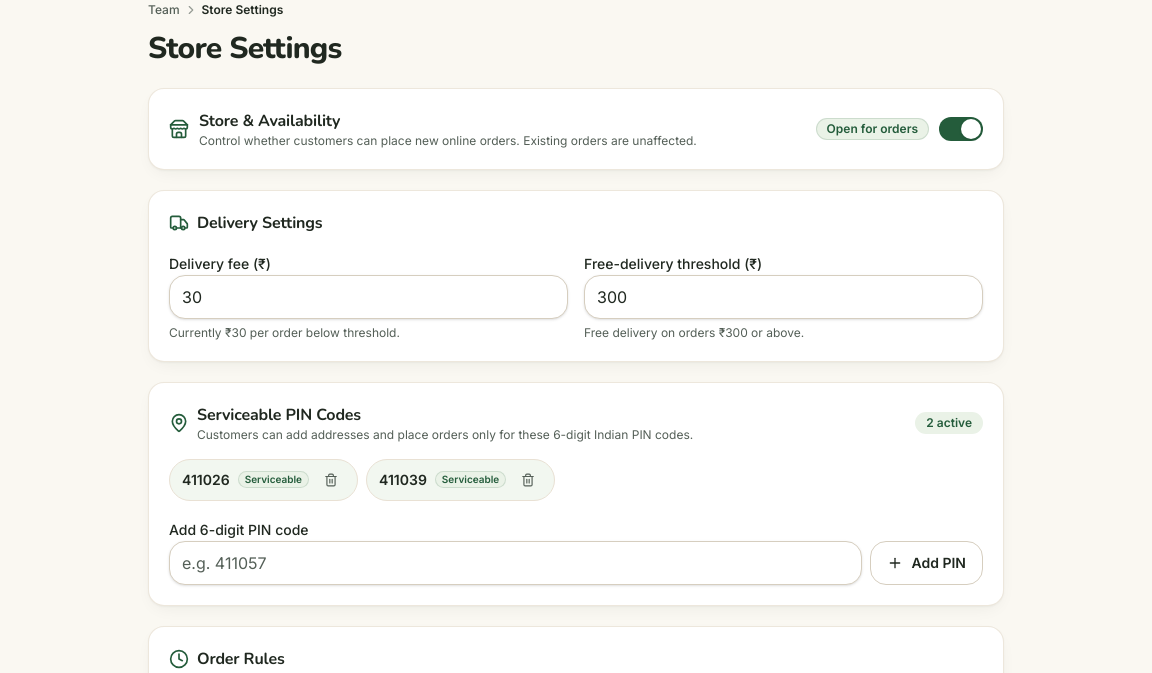
Test case: StoreSettingsPage › validates negative delivery fee and saves valid settings
The width and height of the screenshot is (1152, 673).
Expected: the text "411026" is shown, [182, 470, 230, 490]
Replace the text in the number field labelled "Delivery fee (₹)" with "-10" at coordinates (368, 296), box [169, 274, 568, 318]
(page scrolled)
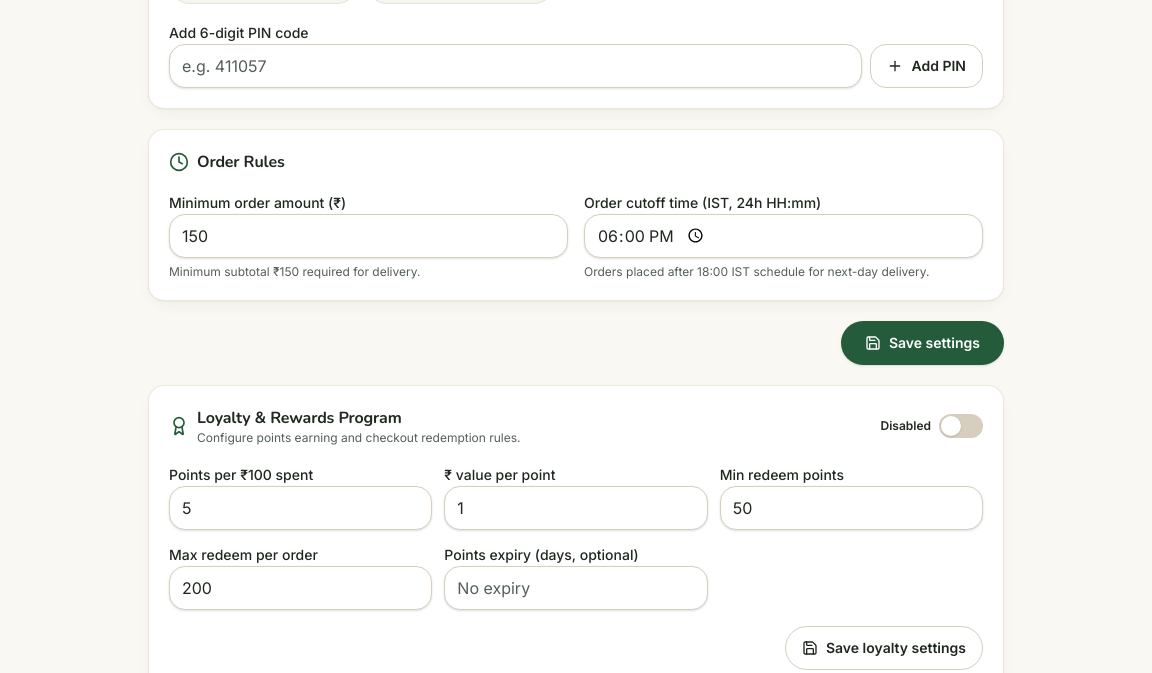
Click the button "Save settings" at coordinates (922, 342), box [841, 320, 1004, 364]
(page scrolled)
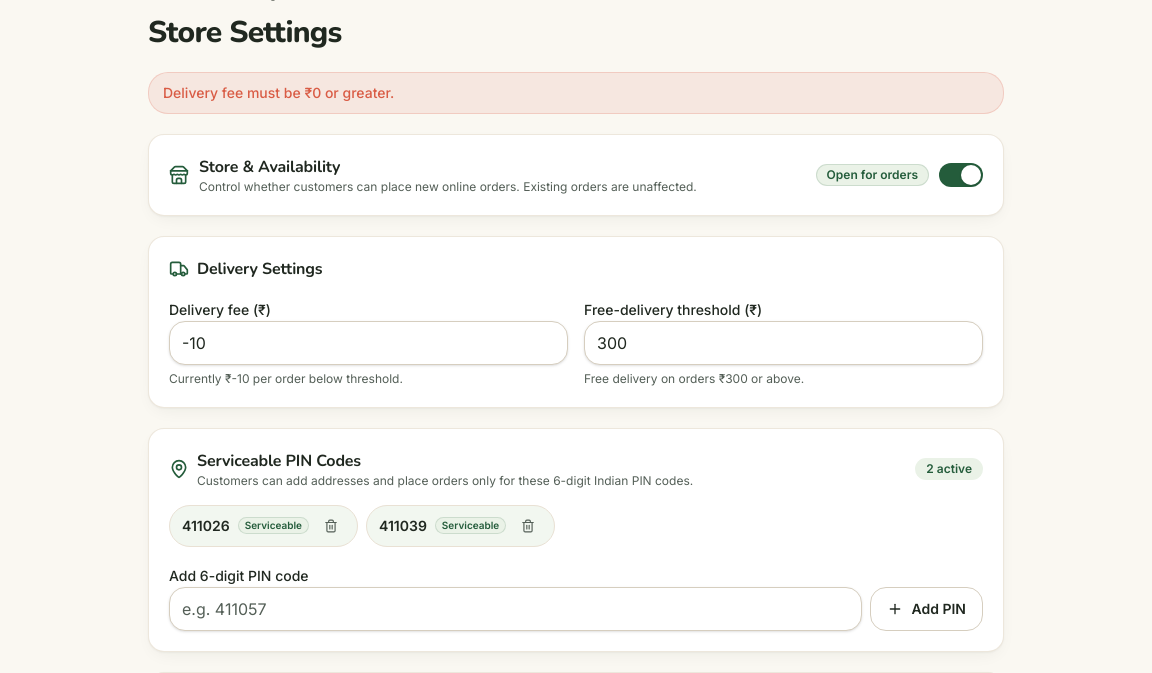
Expected: the message shows "Delivery fee must be", [163, 84, 394, 100]
Replace the text in the number field labelled "Delivery fee (₹)" with "25" at coordinates (368, 342), box [169, 320, 568, 364]
(page scrolled)
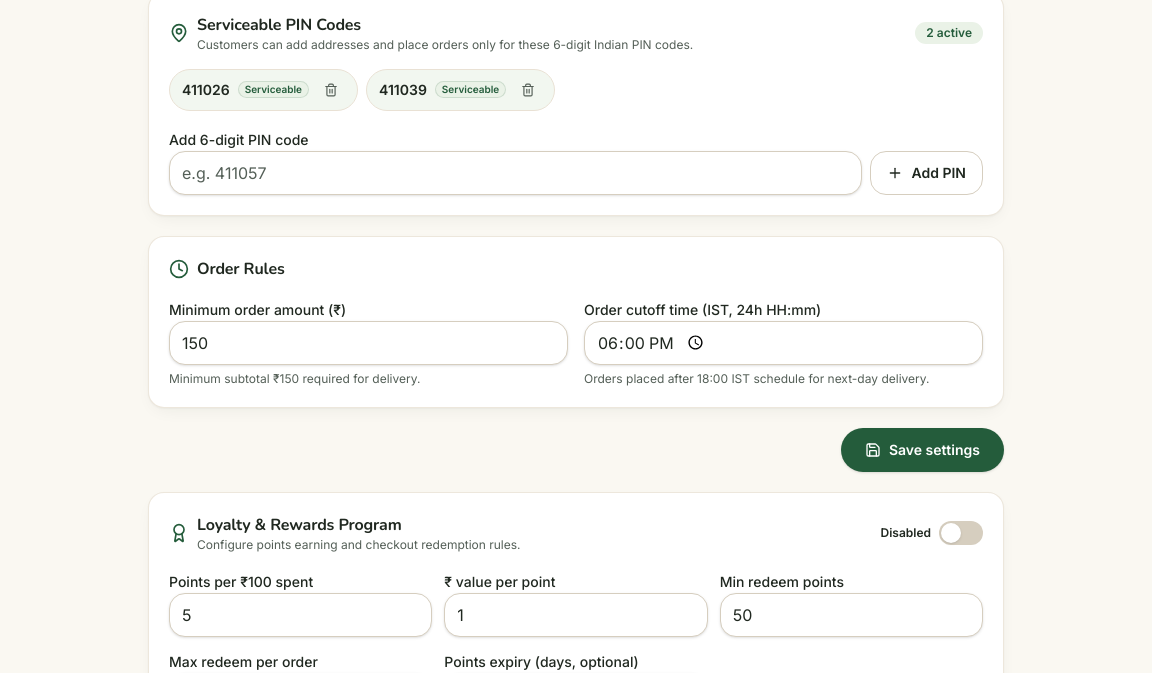
Replace the text in the number field labelled "Minimum order amount (₹)" with "200" at coordinates (368, 342), box [169, 320, 568, 364]
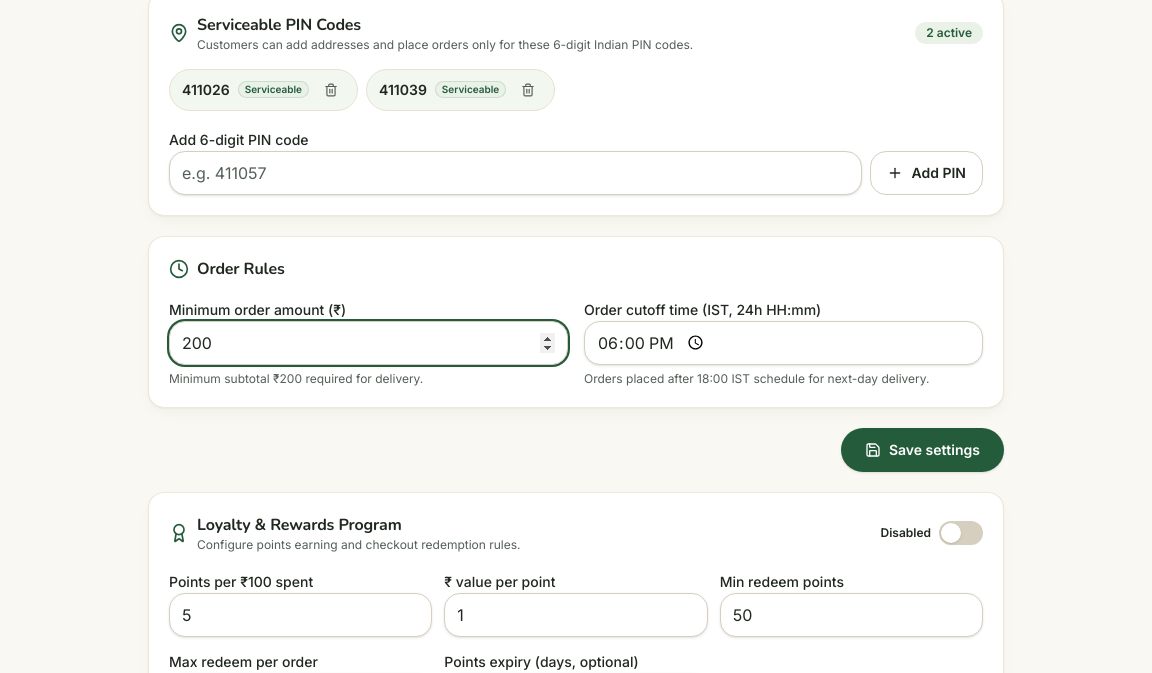
Click the button "Save settings" at coordinates (922, 450), box [841, 428, 1004, 472]
(page scrolled)
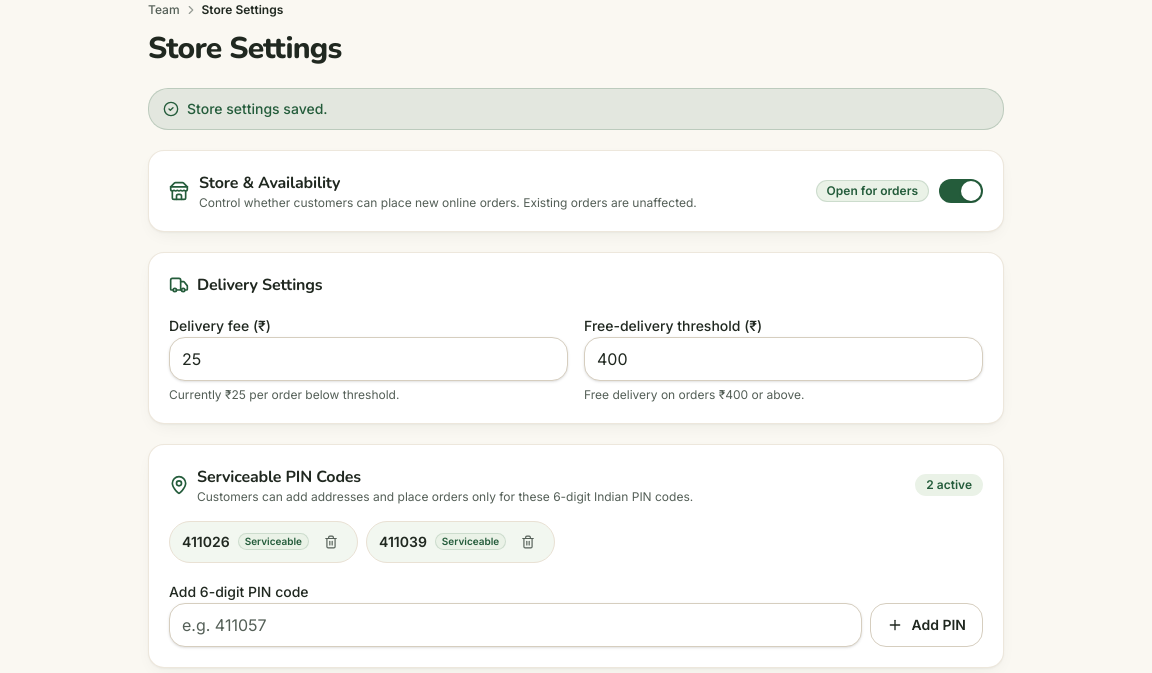
Expected: the message shows "Store settings saved", [187, 100, 328, 116]
